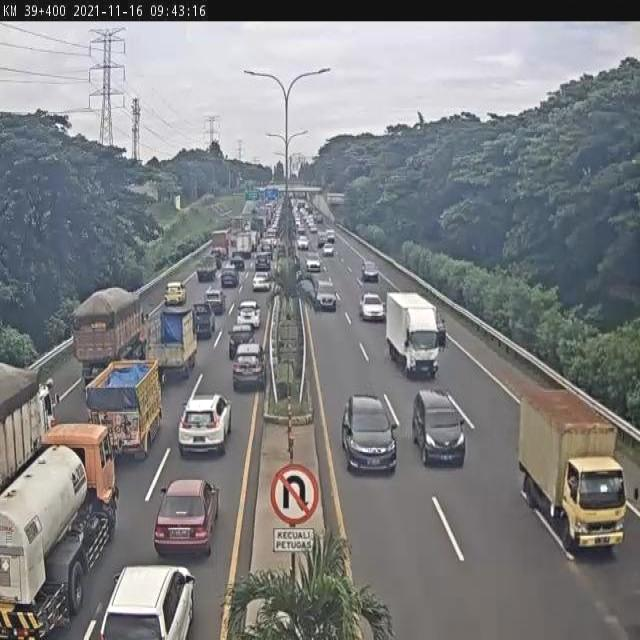Car: (98, 560, 196, 640), (153, 479, 222, 556), (341, 394, 398, 474), (412, 390, 468, 467), (178, 393, 231, 455), (232, 344, 266, 391), (227, 324, 258, 358), (358, 292, 384, 321), (312, 279, 338, 308), (238, 300, 262, 328), (163, 281, 187, 304), (361, 257, 380, 283), (433, 311, 449, 341), (207, 288, 227, 310), (251, 270, 271, 292), (222, 266, 240, 288), (252, 252, 271, 271), (296, 233, 312, 255), (306, 252, 321, 273), (322, 244, 336, 258), (231, 257, 246, 268)
Truck: (0, 417, 119, 640), (514, 381, 630, 551), (82, 357, 167, 458), (68, 286, 152, 384), (0, 359, 58, 493), (385, 287, 442, 380), (147, 304, 200, 379), (190, 302, 217, 341), (196, 254, 219, 282), (228, 215, 248, 247), (211, 228, 230, 258), (246, 214, 266, 238), (236, 230, 253, 258)
